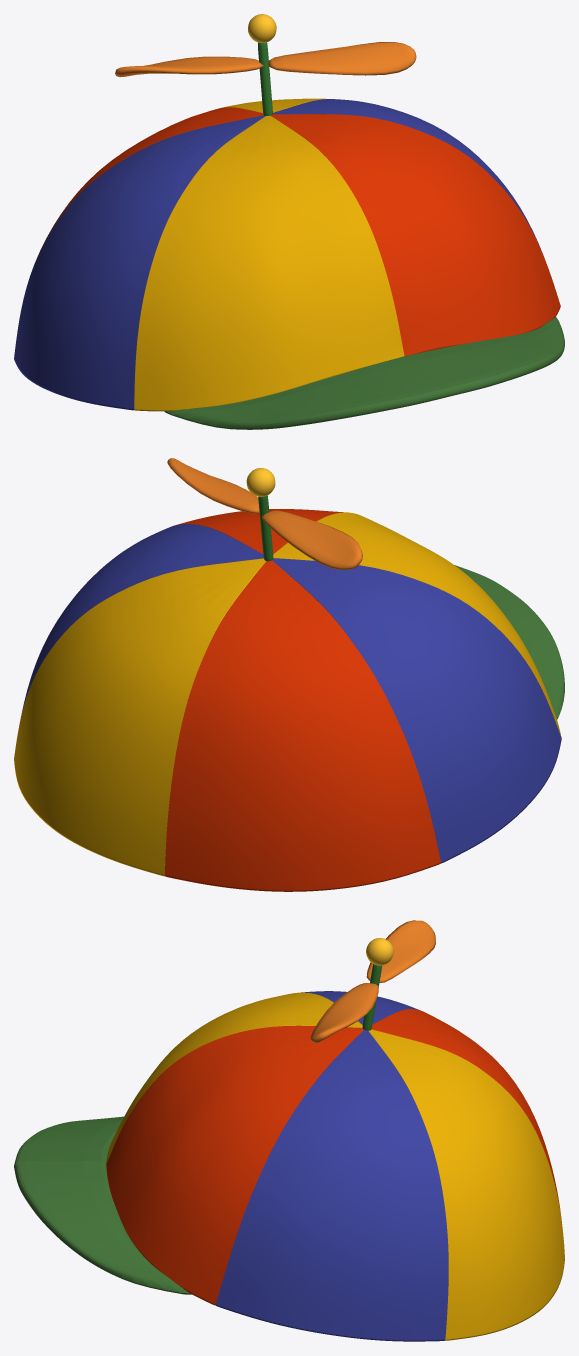
File: HAT_01.glb
The picture shows the model from 3 angles, top to bottom: view 1: azimuth 30°, elevation 25°; view 2: azimuth 150°, elevation 25°; view 3: azimuth 270°, elevation 25°; orthographic projection. The views are drawn at different scales.
Parts seen in each view (by area): view 1: Sphere.002; view 2: Sphere.002; view 3: Sphere.002.
Boxes of the visible parts, box(x1,y1,x2,y2) form: Sphere.002: box(14, 14, 564, 429); Sphere.002: box(14, 458, 564, 891); Sphere.002: box(14, 920, 564, 1341).
Bounding box in the file's own units: 1.74 × 1.17 × 1.83.
